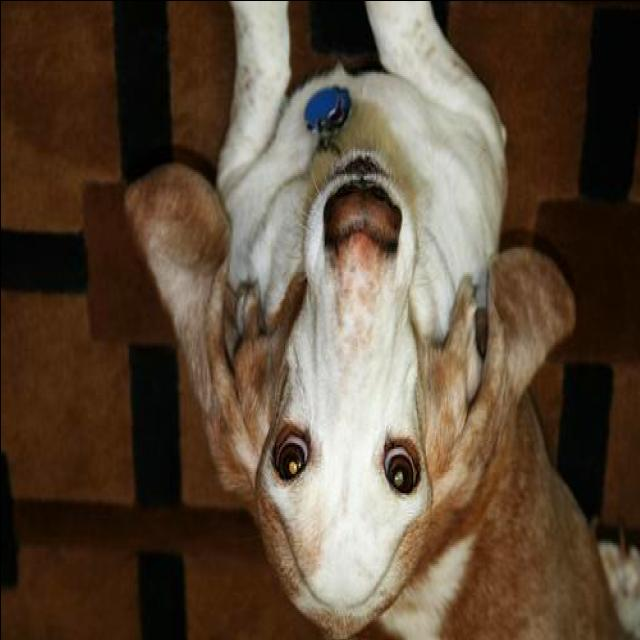basset: (127, 4, 640, 640)
